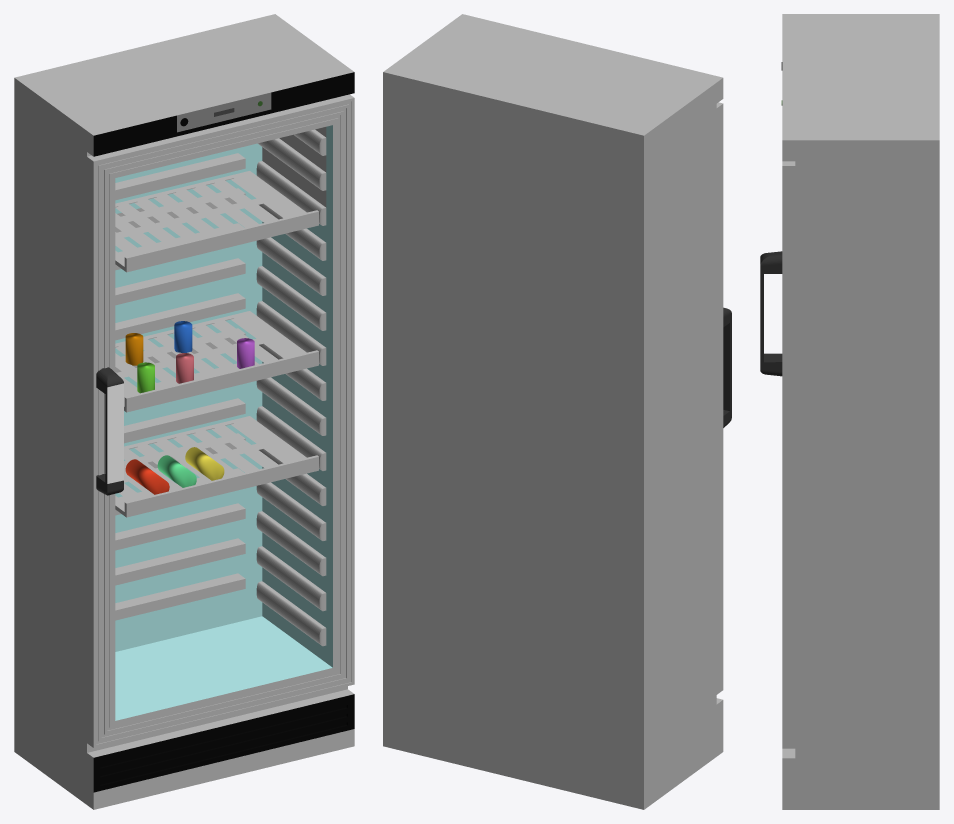
File: fridge.fbx
The picture shows the model from 3 angles, left to right: view 1: azimuth 30°, elevation 25°; view 2: azimuth 150°, elevation 25°; view 3: azimuth 270°, elevation 25°; orthographic projection.
Parts seen in each view (by area): view 1: Cube; view 2: Cube; view 3: Cube.
Part boxes in pixels (left/top/right/bottom): Cube: left=14, top=14, right=354, bottom=809; Cube: left=383, top=14, right=731, bottom=809; Cube: left=760, top=14, right=939, bottom=809.
Size of the model in its own units: 80.43 by 199 by 48.25.
